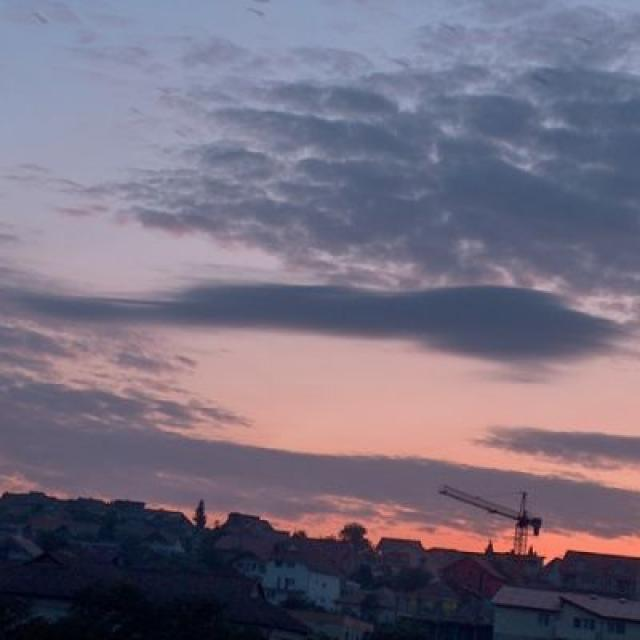Ac: (1, 31, 640, 428)
